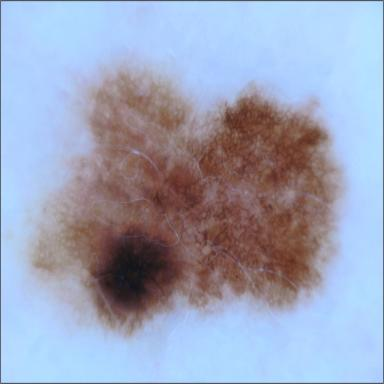nevus: (31, 67, 343, 334)
